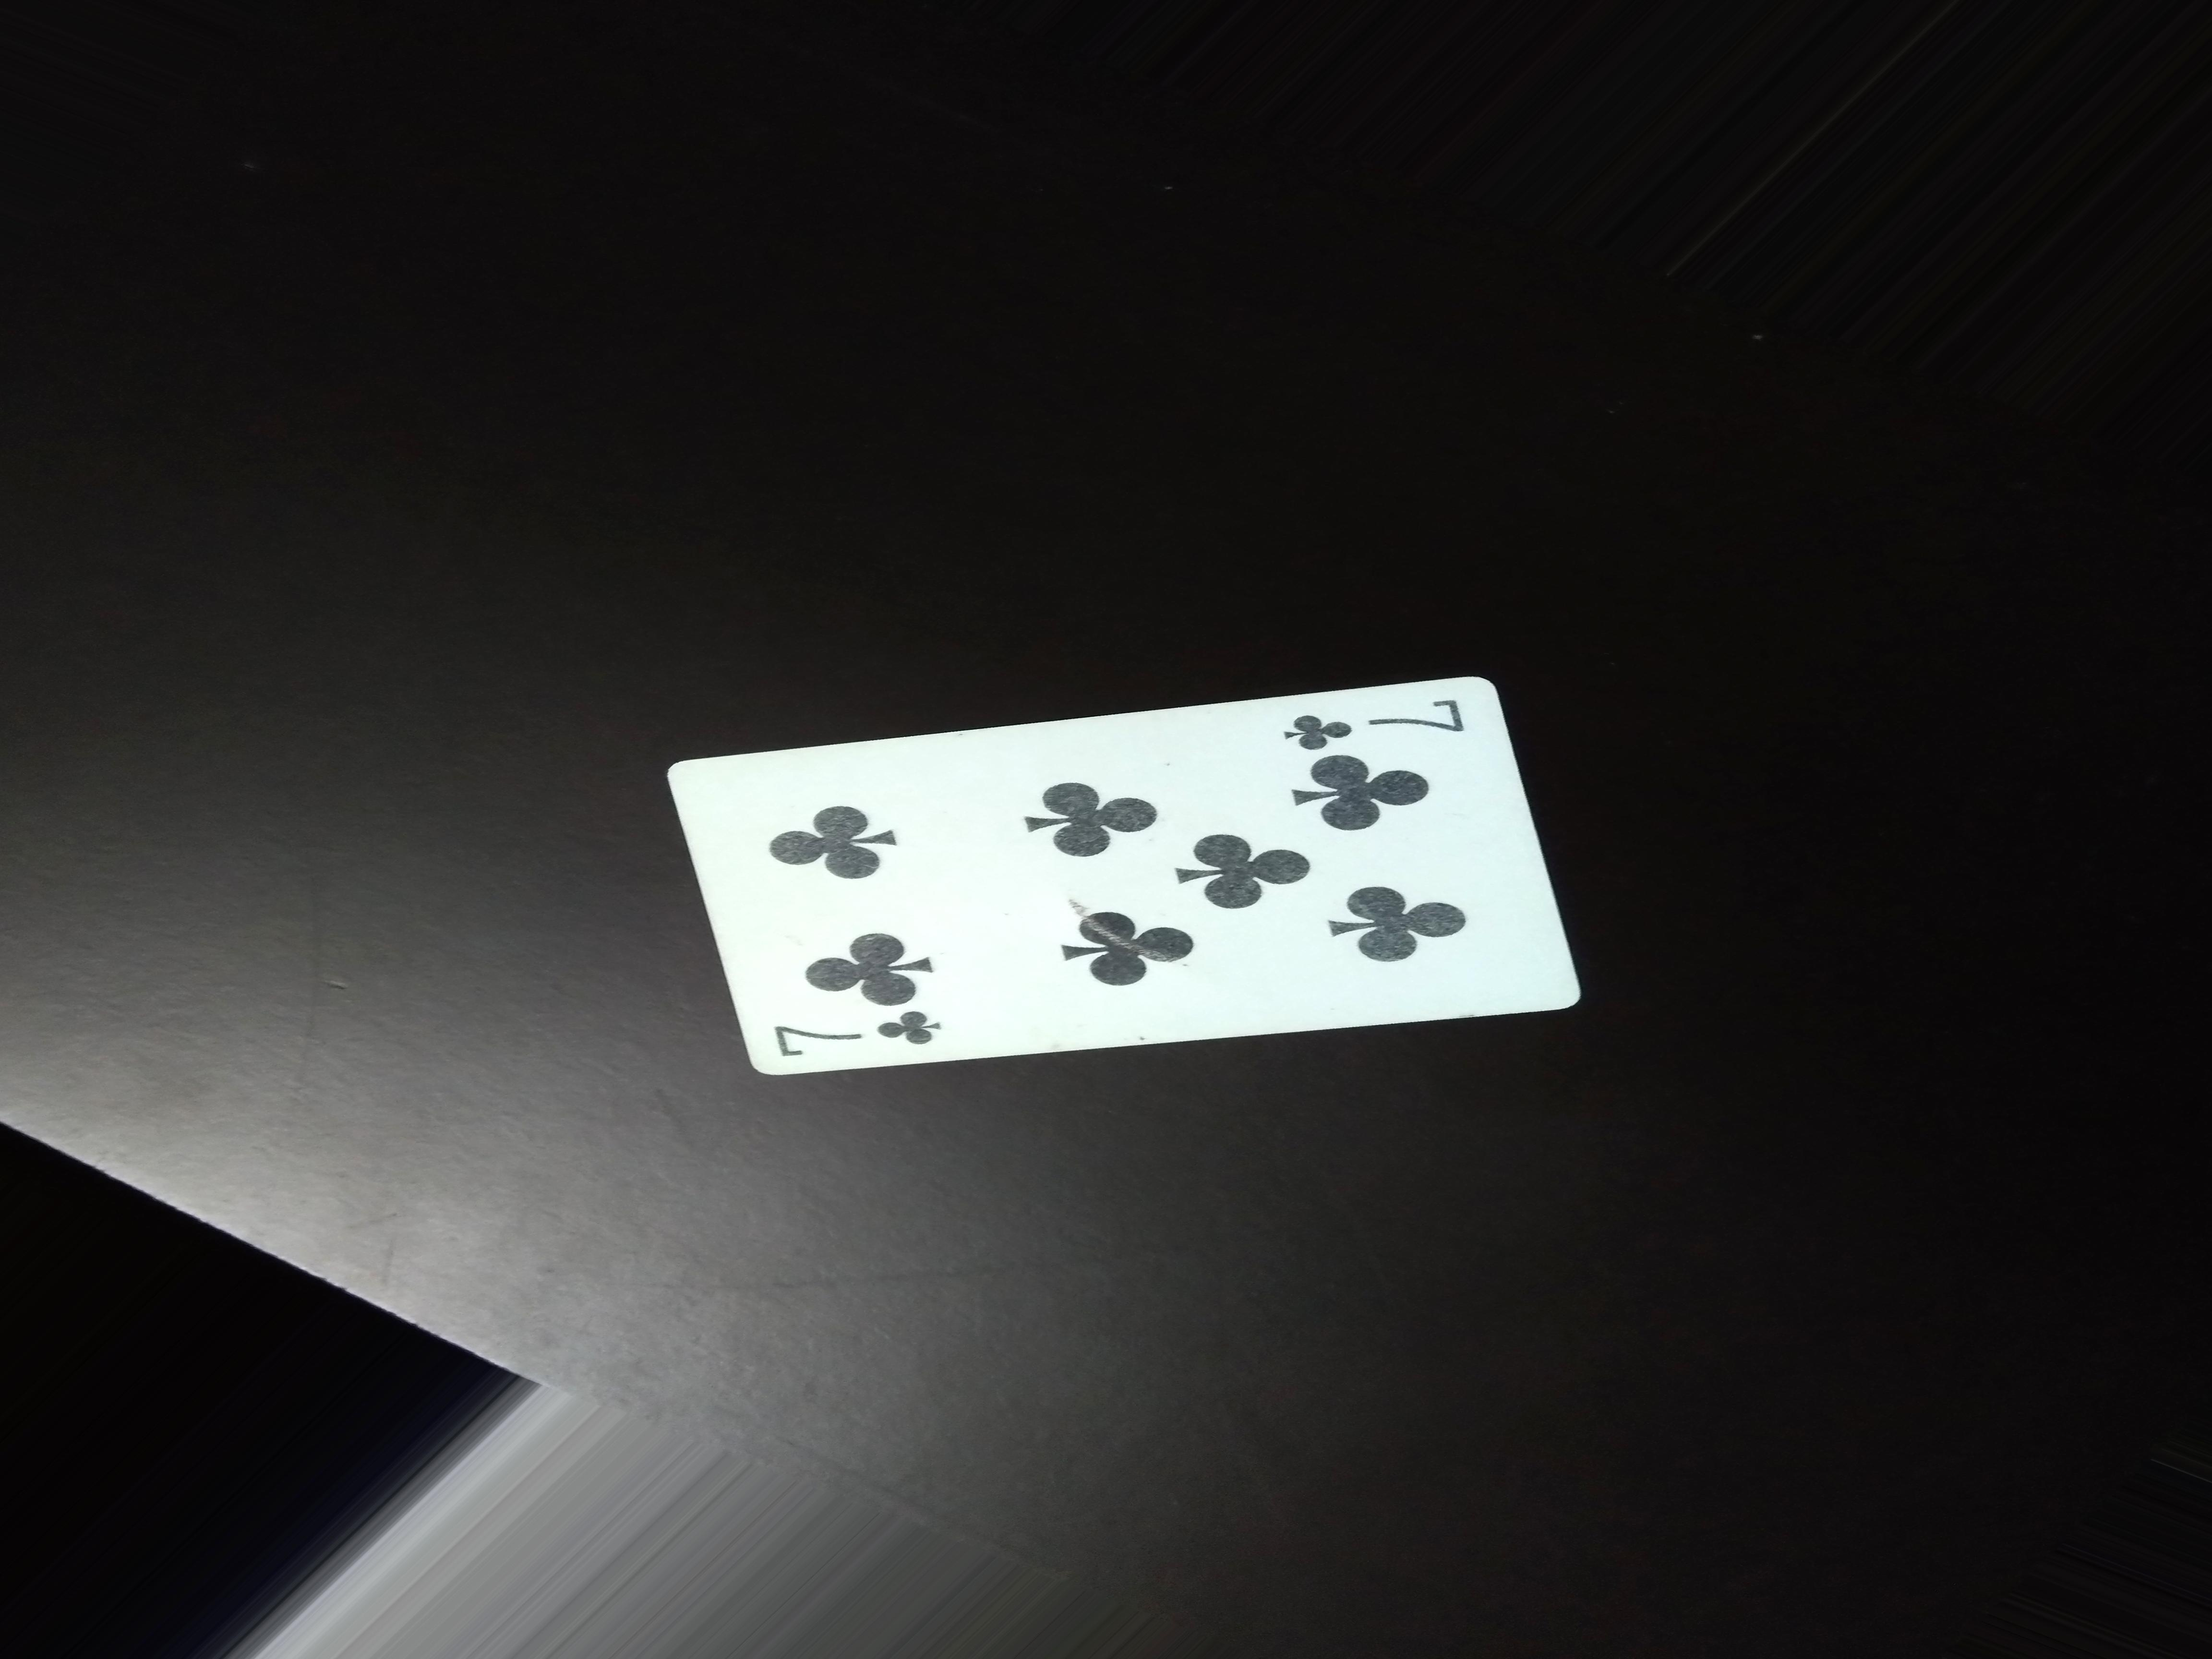7C: (1270, 681, 1477, 751)
